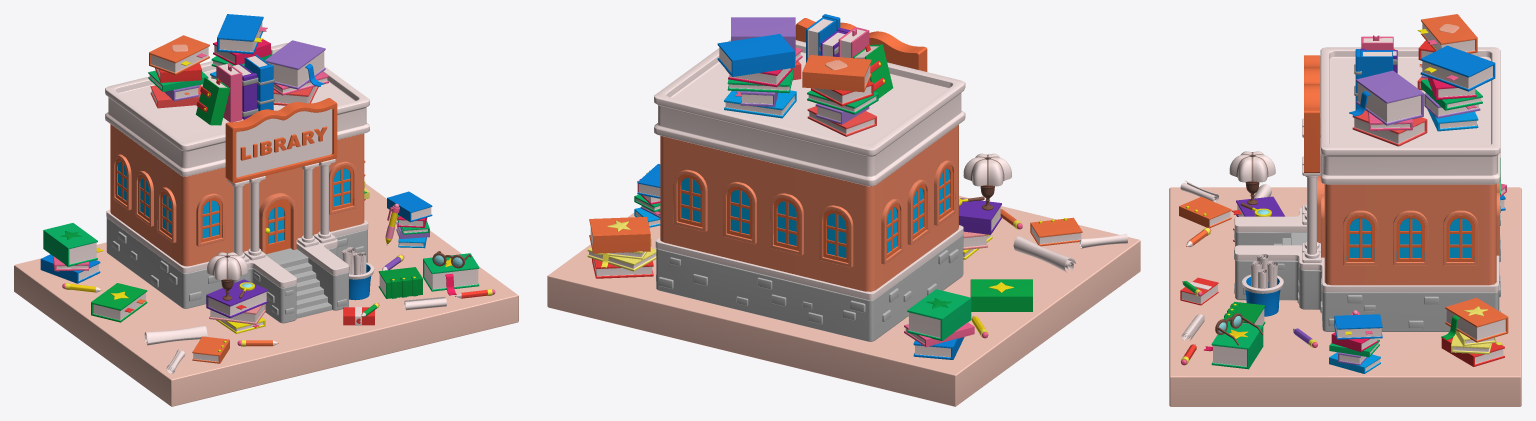
The model's file is Public_Island_2.glb.
3 renders of one model, left to right at view 1: azimuth 30°, elevation 25°; view 2: azimuth 150°, elevation 25°; view 3: azimuth 270°, elevation 25°, orthographic. The views are drawn at different scales.
Visible parts, largest first — view 1: Public_2_Library_1, Public_2_Base_1, Public_2_Books_1, Public_2_Books_4, Public_2_Books_2, Public_2_Books_8, Public_2_Books_7, Public_2_Books_3, Public_2_Book_9, Public_2_Book_8, Public_2_Book_2, Public_2_Book_7 (+8 smaller); view 2: Public_2_Library_1, Public_2_Base_1, Public_2_Books_8, Public_2_Books_1, Public_2_Books_6, Public_2_Books_2, Public_2_Book_8, Public_2_Books_7, Public_2_Books_4, Public_2_Lamp_1, Public_2_Books_3, Public_2_Book_6 (+4 smaller); view 3: Public_2_Library_1, Public_2_Base_1, Public_2_Books_8, Public_2_Books_4, Public_2_Books_6, Public_2_Books_3, Public_2_Books_1, Public_2_Book_9, Public_2_Lamp_1, Public_2_Book_6, Public_2_Book_1, Public_2_Vase_1 (+6 smaller).
Part boxes in pixels (left/top/right/bottom): Public_2_Library_1: left=105, top=42, right=369, bottom=323; Public_2_Base_1: left=14, top=183, right=518, bottom=406; Public_2_Books_1: left=148, top=35, right=209, bottom=108; Public_2_Books_4: left=264, top=40, right=328, bottom=105; Public_2_Books_2: left=40, top=223, right=103, bottom=283; Public_2_Books_8: left=210, top=14, right=272, bottom=78; Public_2_Books_7: left=206, top=279, right=267, bottom=333; Public_2_Books_3: left=387, top=191, right=432, bottom=248; Public_2_Book_9: left=423, top=253, right=479, bottom=295; Public_2_Book_8: left=91, top=283, right=147, bottom=322; Public_2_Book_2: left=378, top=267, right=422, bottom=298; Public_2_Book_7: left=196, top=77, right=230, bottom=125; Public_2_Library_1: left=654, top=18, right=965, bottom=341; Public_2_Base_1: left=547, top=195, right=1140, bottom=406; Public_2_Books_8: left=717, top=34, right=796, bottom=118; Public_2_Books_1: left=802, top=55, right=878, bottom=136; Public_2_Books_6: left=587, top=217, right=656, bottom=278; Public_2_Books_2: left=904, top=289, right=974, bottom=359; Public_2_Book_8: left=970, top=279, right=1032, bottom=311; Public_2_Books_7: left=959, top=198, right=1001, bottom=259; Public_2_Books_4: left=725, top=17, right=802, bottom=80; Public_2_Lamp_1: left=963, top=153, right=1011, bottom=210; Public_2_Books_3: left=634, top=164, right=660, bottom=227; Public_2_Book_6: left=1030, top=217, right=1082, bottom=246; Public_2_Library_1: left=1234, top=47, right=1500, bottom=331; Public_2_Base_1: left=1169, top=187, right=1521, bottom=406; Public_2_Books_8: left=1420, top=45, right=1495, bottom=131; Public_2_Books_4: left=1349, top=70, right=1427, bottom=146; Public_2_Books_6: left=1441, top=297, right=1508, bottom=366; Public_2_Books_3: left=1329, top=314, right=1382, bottom=373; Public_2_Books_1: left=1417, top=14, right=1477, bottom=90; Public_2_Book_9: left=1204, top=321, right=1263, bottom=369; Public_2_Lamp_1: left=1229, top=151, right=1275, bottom=204; Public_2_Book_6: left=1179, top=196, right=1231, bottom=227; Public_2_Book_1: left=1354, top=49, right=1392, bottom=109; Public_2_Vase_1: left=1242, top=274, right=1283, bottom=316.
Bounding box in the file's own units: 16.67 × 10.87 × 13.08.
Materials: 35 (35 with a texture image).
